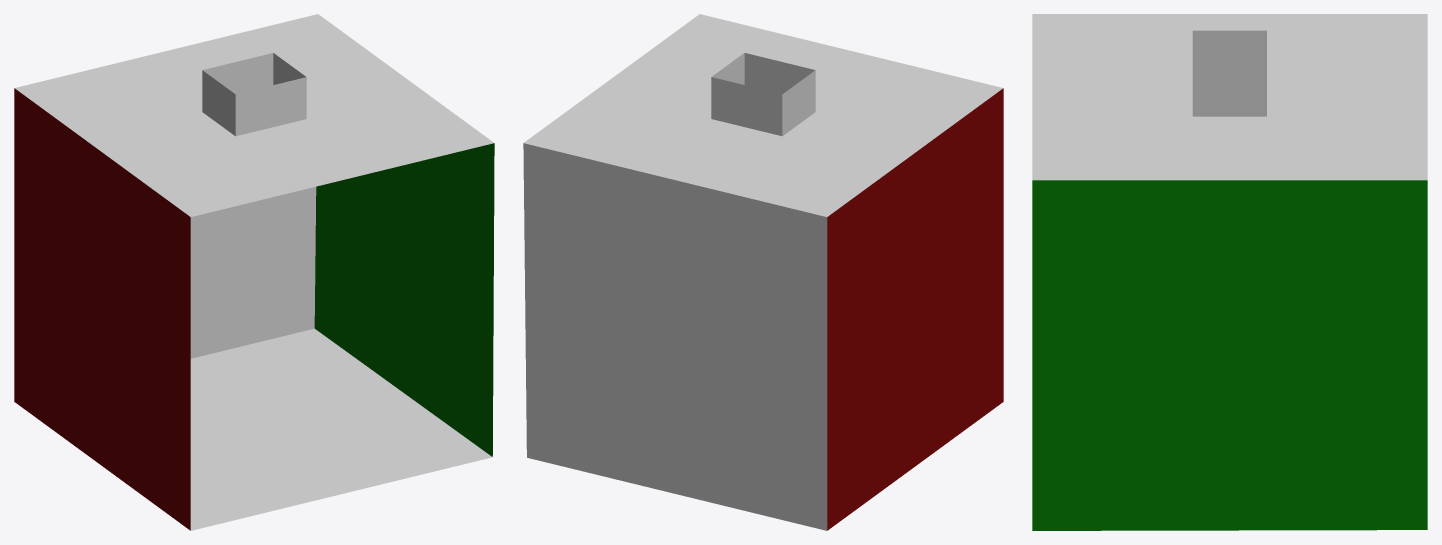
File: cornellbox_spheres.DAE
3 renders of one model, left to right at view 1: azimuth 30°, elevation 25°; view 2: azimuth 150°, elevation 25°; view 3: azimuth 270°, elevation 25°, orthographic. The views are drawn at different scales.
Visible parts, largest first — view 1: object2, object4, object3; view 2: object2, object4; view 3: object3, object2.
Part boxes in pixels (left/top/right/bottom): object2: left=14, top=14, right=493, bottom=530; object4: left=14, top=88, right=190, bottom=530; object3: left=314, top=143, right=494, bottom=456; object2: left=523, top=14, right=1003, bottom=530; object4: left=827, top=88, right=1003, bottom=530; object3: left=1032, top=180, right=1427, bottom=530; object2: left=1032, top=14, right=1427, bottom=180.
Size of the model in its own units: 556 by 559 by 622.
